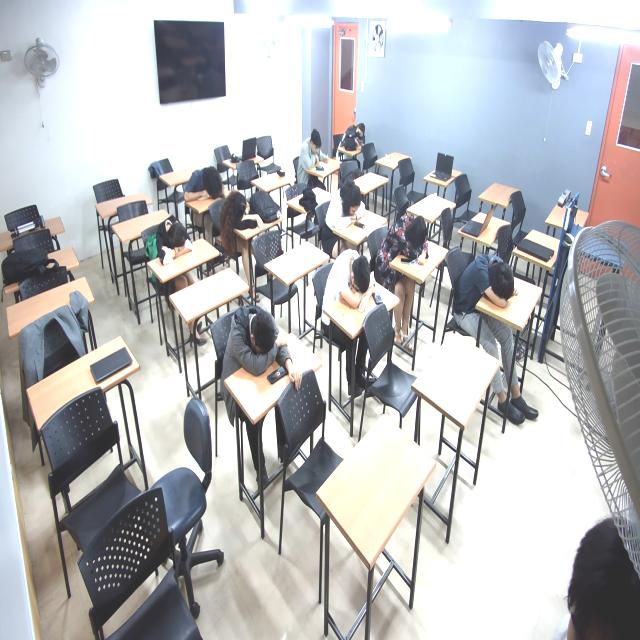sleep: (227, 306, 290, 380), (470, 245, 521, 315), (333, 246, 379, 313), (323, 183, 369, 233), (220, 190, 262, 243), (157, 214, 194, 268), (395, 216, 432, 266), (190, 164, 224, 207), (344, 119, 366, 152)
